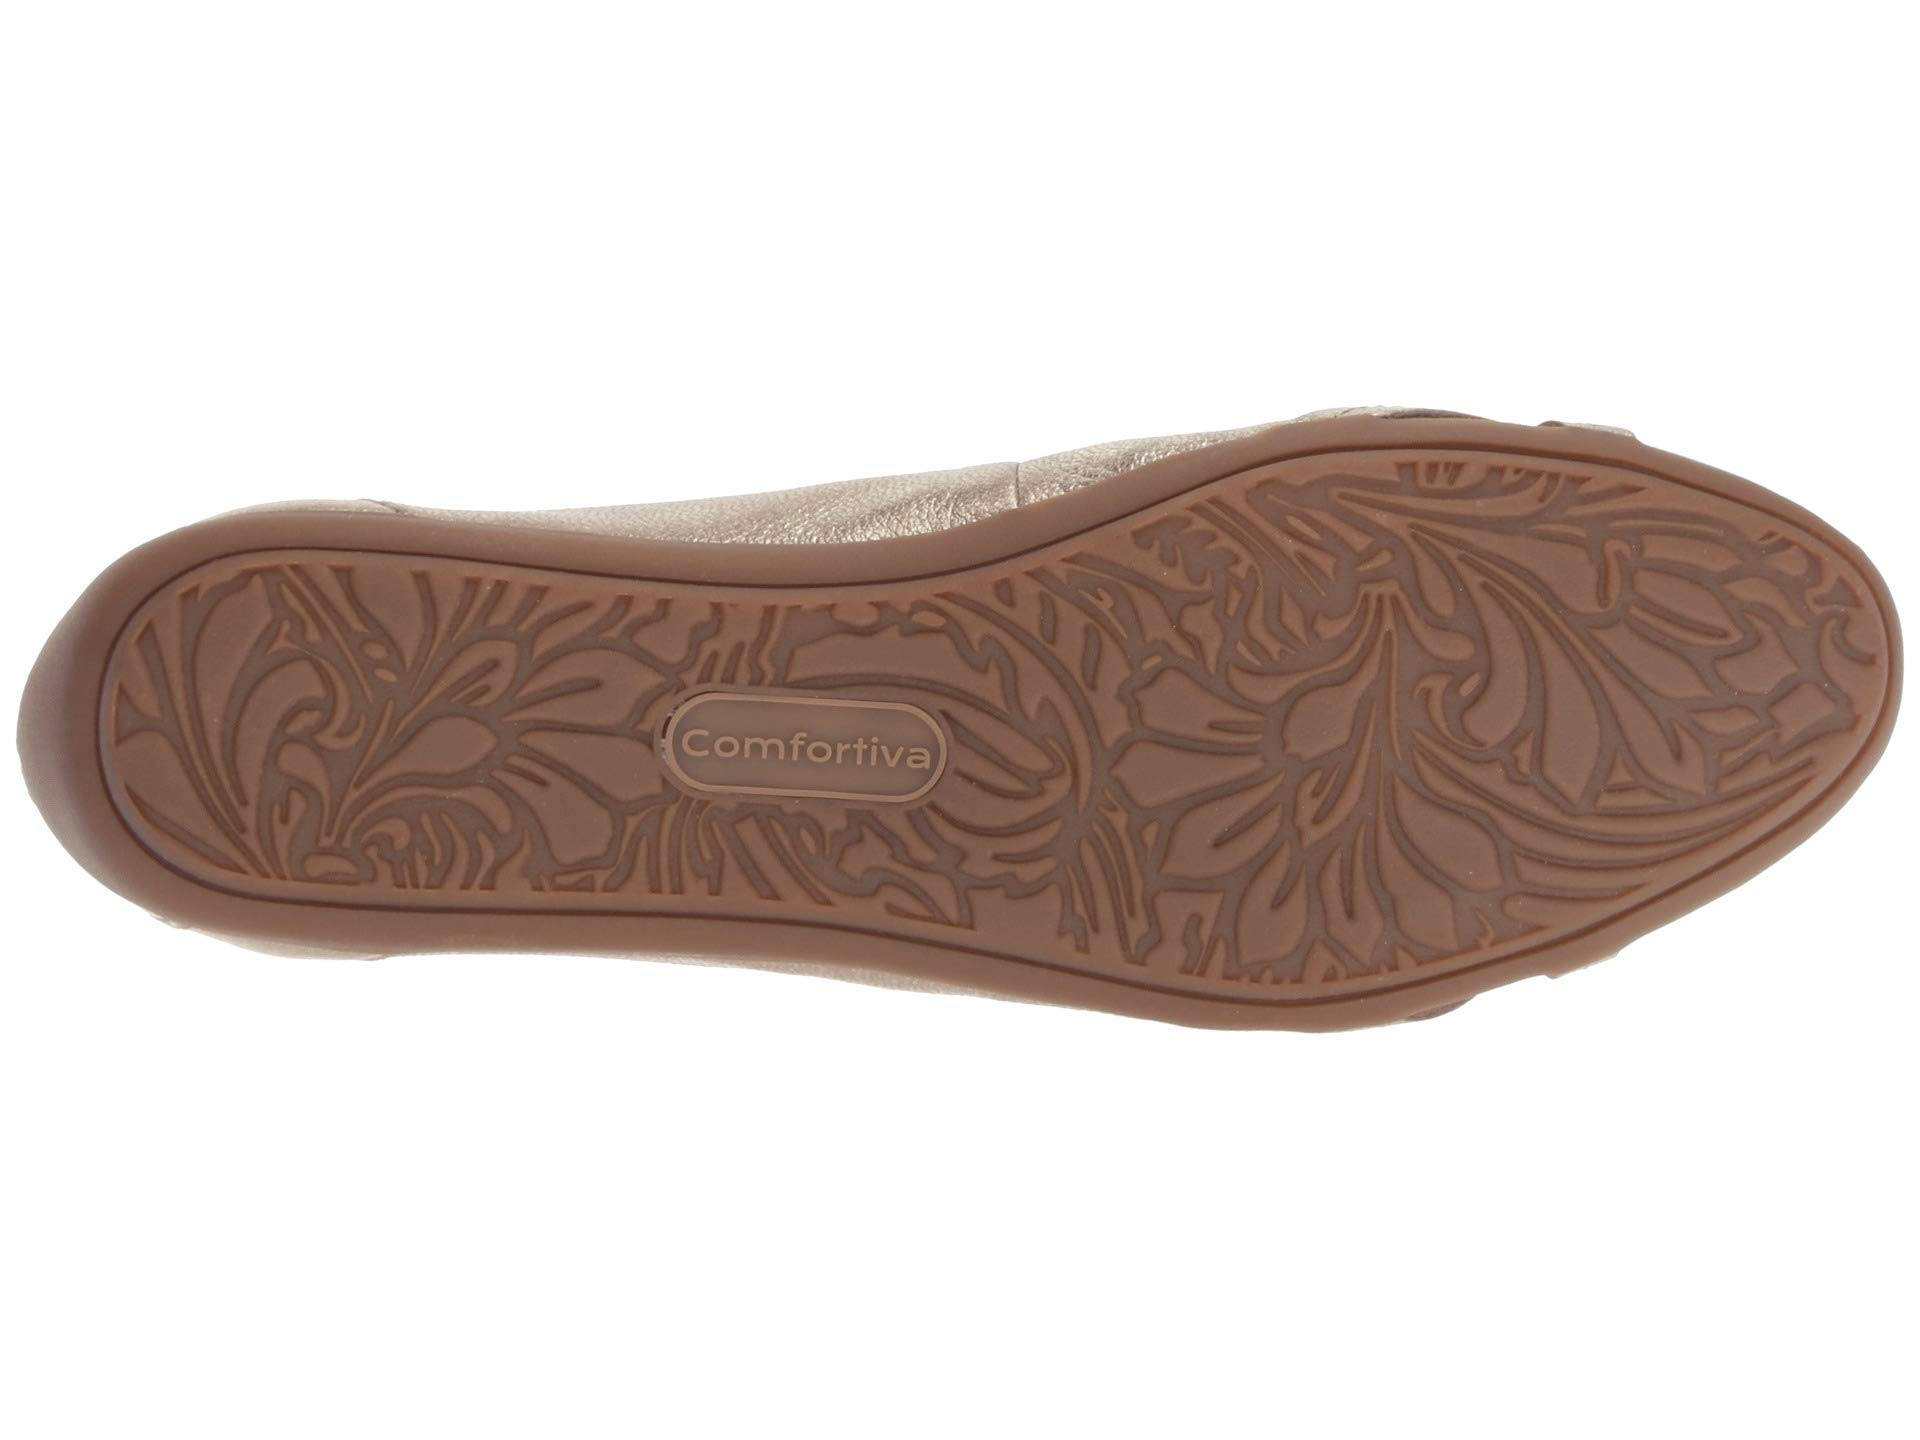circle: (636, 656, 969, 824)
text: (636, 656, 969, 824)
